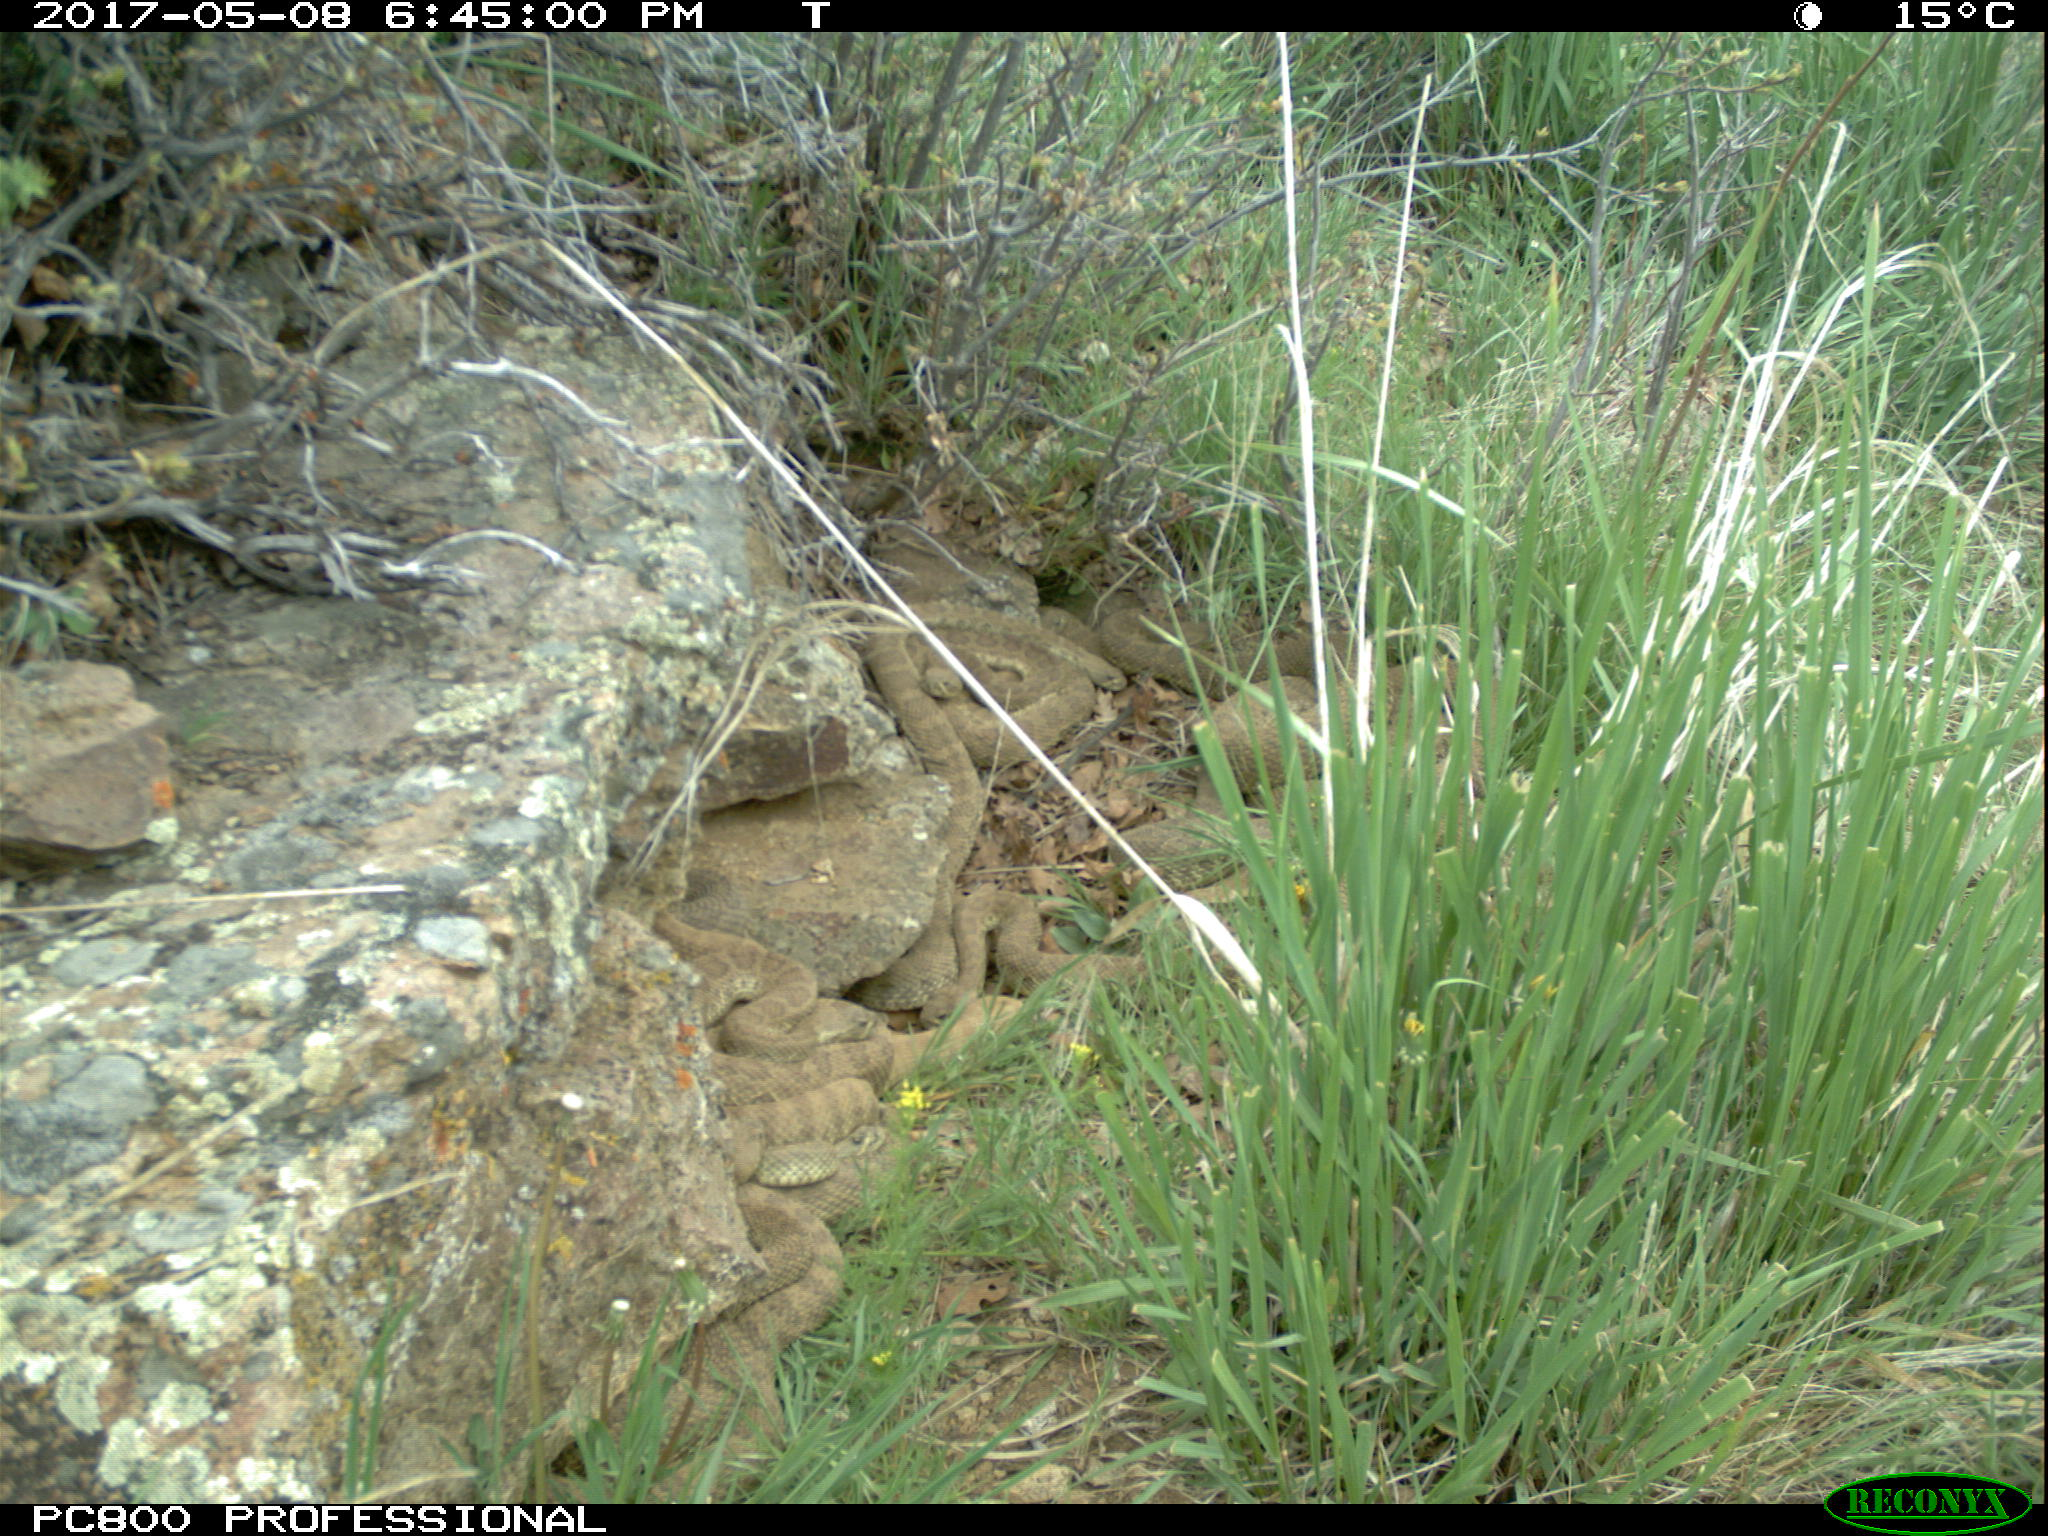snake: (556, 1204, 848, 1488), (666, 905, 885, 1196), (1127, 607, 1434, 770), (897, 886, 1171, 1052), (868, 595, 1126, 749), (1103, 770, 1309, 899), (921, 747, 989, 894)
